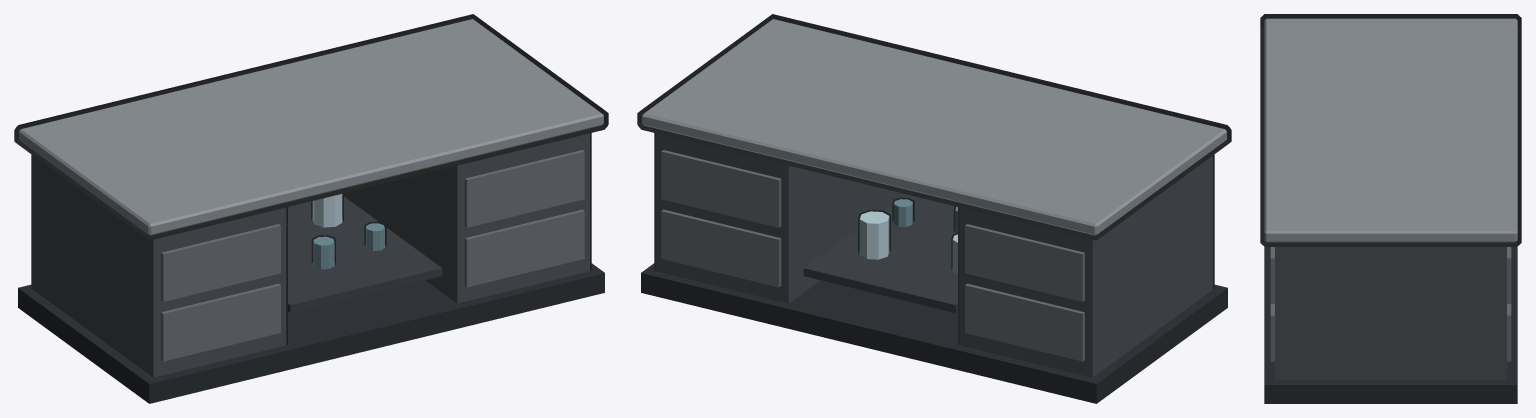
The model's file is SM_LabTable.glb.
3 views of the same model, side by side, from view 1: azimuth 30°, elevation 25°; view 2: azimuth 150°, elevation 25°; view 3: azimuth 270°, elevation 25° (orthographic). The views are drawn at different scales.
Visible parts, largest first — view 1: SM_LabTable, SM_LabTable_Outline; view 2: SM_LabTable, SM_LabTable_Outline; view 3: SM_LabTable, SM_LabTable_Outline.
Boxes of the visible parts, left/top/right/bottom form: SM_LabTable: left=18, top=19, right=604, bottom=403; SM_LabTable_Outline: left=14, top=14, right=608, bottom=345; SM_LabTable: left=641, top=19, right=1227, bottom=403; SM_LabTable_Outline: left=637, top=14, right=1231, bottom=345; SM_LabTable: left=1264, top=18, right=1517, bottom=403; SM_LabTable_Outline: left=1260, top=14, right=1521, bottom=246.
Size of the model in its own units: 2.44 by 0.9196 by 1.24.
Materials: 2 (1 with a texture image).
